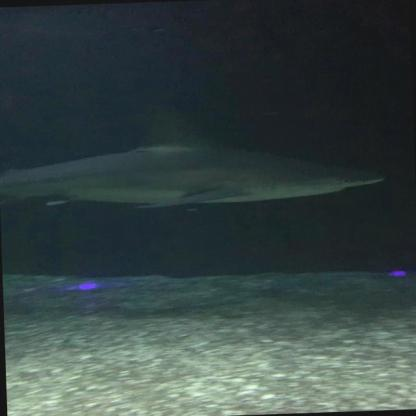shark: (0, 109, 388, 214)
